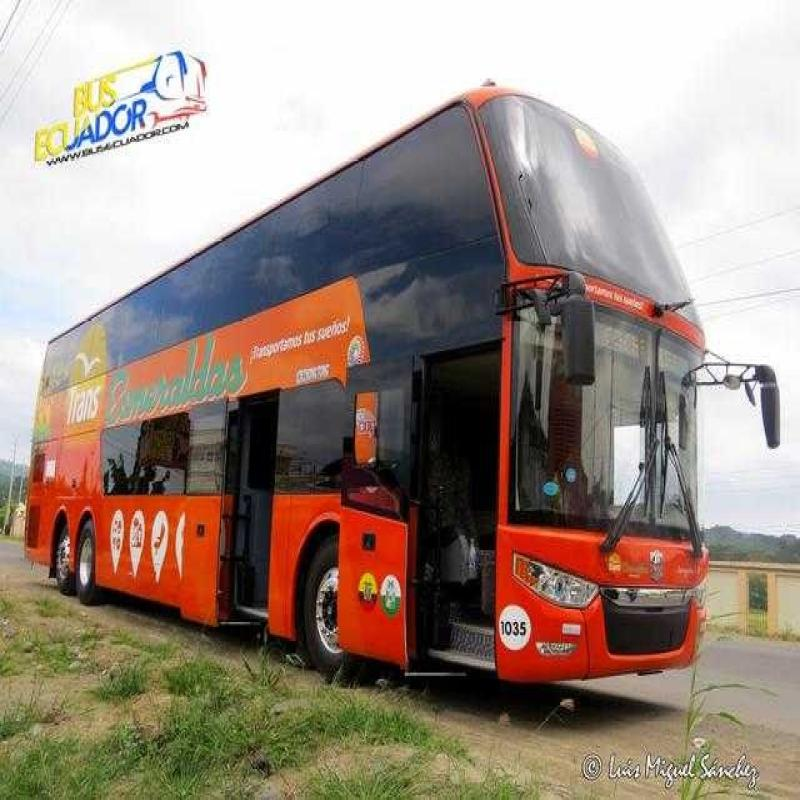bus: (23, 68, 751, 713)
